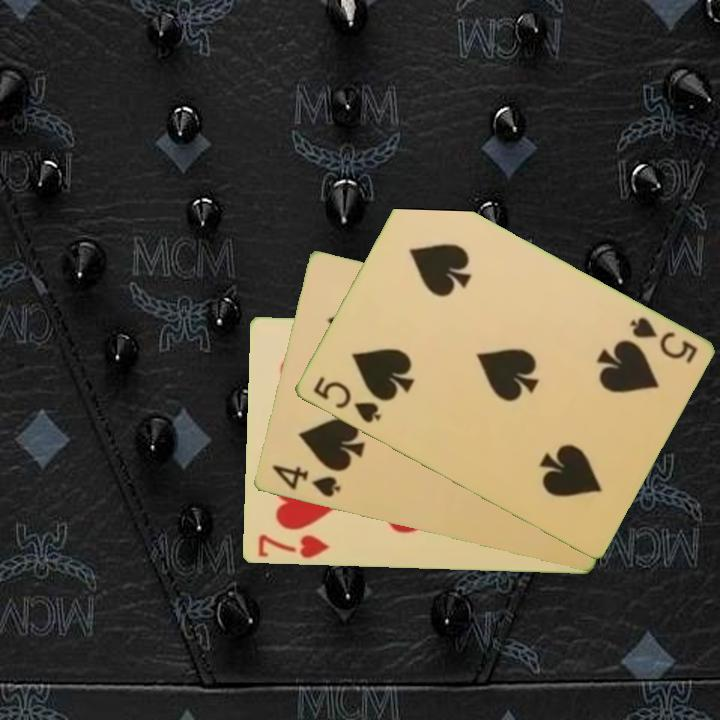4s: (268, 462, 343, 500)
5s: (309, 373, 384, 427), (626, 313, 700, 367)
7h: (254, 531, 331, 562)
